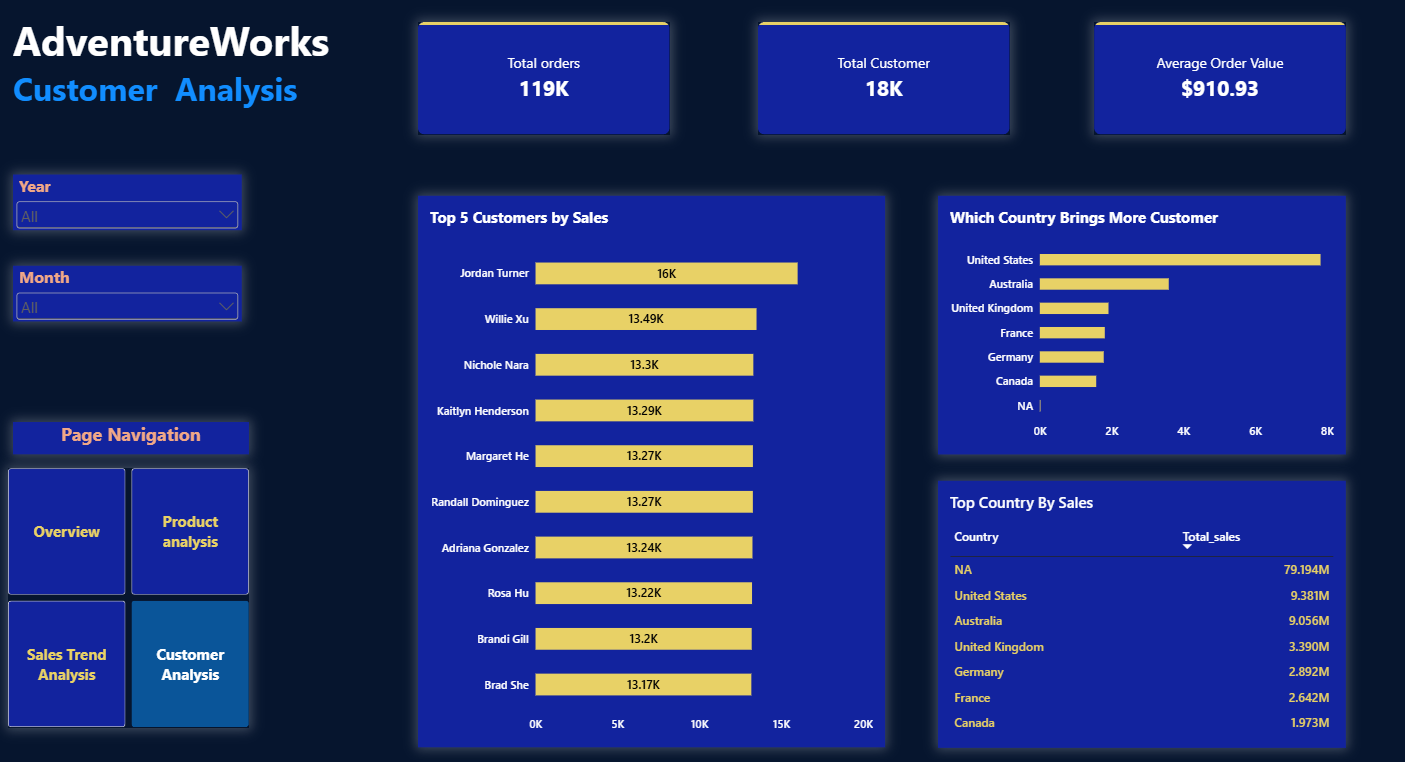

The dashboard page shown, as its layout file describes it:
{"tool":"powerbi","page":{"name":"Customer Analysis","canvas":[1920,1080],"ordinal":3},"visuals":[{"type":"cardVisual","fields":{"Data":["Sales.Total orders"]},"box":[568.2,39.8,336.6,150.2],"z":1000},{"type":"cardVisual","fields":{"Data":["Sales.Average Order Value"]},"box":[1471.3,39.8,336.6,150.2],"z":2000},{"type":"textbox","box":[27.1,29,470.5,161.1],"z":3000},{"type":"slicer","fields":{"Values":["Date.Date.Variation.Date Hierarchy.Year"]},"box":[27.1,244.3,305.9,74.4],"z":4000},{"type":"slicer","fields":{"Values":["Date.Full Date.Variation.Date Hierarchy.Month"]},"box":[27.1,365.6,305.9,74.4],"z":5000},{"type":"pageNavigator","box":[19.9,637,322.1,347.5],"z":6000},{"type":"textbox","box":[27.1,573.7,314.9,43.4],"z":7000},{"type":"cardVisual","fields":{"Data":["Customer.Total customer"]},"box":[1022.6,39.7,336.6,150.2],"z":10500},{"type":"barChart","title":"Top 5 Customers by Sales","fields":{"Category":["Customer.Customer"],"Y":["Customer.Total_sales_Excl_NA"]},"box":[568.1,271.7,623.7,736.9],"z":10501},{"type":"clusteredBarChart","title":"Which Country Brings More Customer","fields":{"Category":["Customer.Country"],"Y":["Customer.Total Customer"]},"box":[1263.1,271.4,544.7,345.6],"z":10502},{"type":"tableEx","title":"Top Country By Sales","fields":{"Values":["Customer.Country","Sales.Total_sales"]},"box":[1263.1,653.3,544.7,356.5],"z":10503}]}

Visuals, with their boxes on the page's 1920x1080 design canvas (x1, y1, x2, y2). These are canvas units, not pixel positions in the 1405x762 screenshot, which may show the page scaled, cropped or inside an application window:
cardVisual - Sales.Total orders: locate(568, 40, 905, 190)
cardVisual - Sales.Average Order Value: locate(1471, 40, 1808, 190)
textbox: locate(27, 29, 498, 190)
slicer - Date.Date.Variation.Date Hierarchy.Year: locate(27, 244, 333, 319)
slicer - Date.Full Date.Variation.Date Hierarchy.Month: locate(27, 366, 333, 440)
pageNavigator: locate(20, 637, 342, 984)
textbox: locate(27, 574, 342, 617)
cardVisual - Customer.Total customer: locate(1023, 40, 1359, 190)
"Top 5 Customers by Sales" barChart: locate(568, 272, 1192, 1009)
"Which Country Brings More Customer" clusteredBarChart: locate(1263, 271, 1808, 617)
"Top Country By Sales" tableEx: locate(1263, 653, 1808, 1010)
